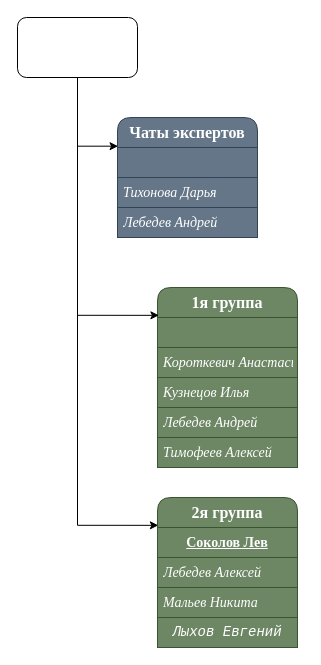
This 321x665 diagram has some shape labels left out. Each missing label, with the centre of its shape:
Антонова Дарья: point 187,162
Интеграционные решения: point 77,47
Тихонов Александр: point 227,332
